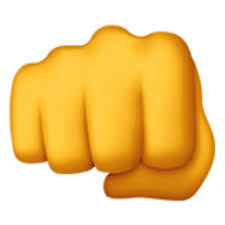fist: (19, 37, 209, 201)
